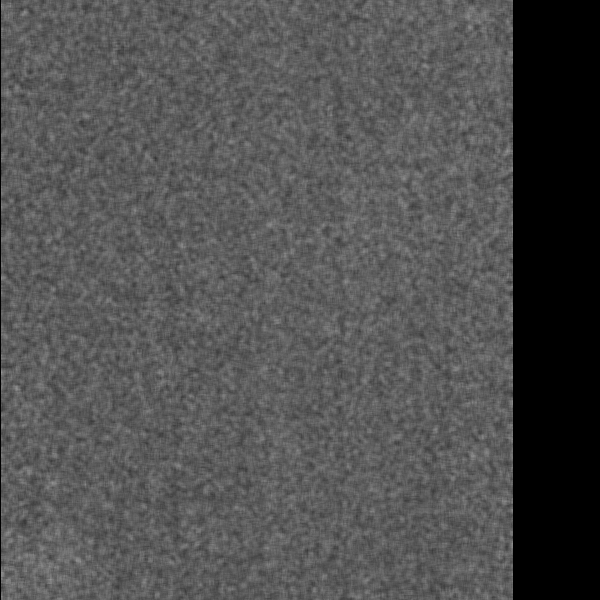spark: (414, 1, 455, 92), (1, 285, 26, 379)
